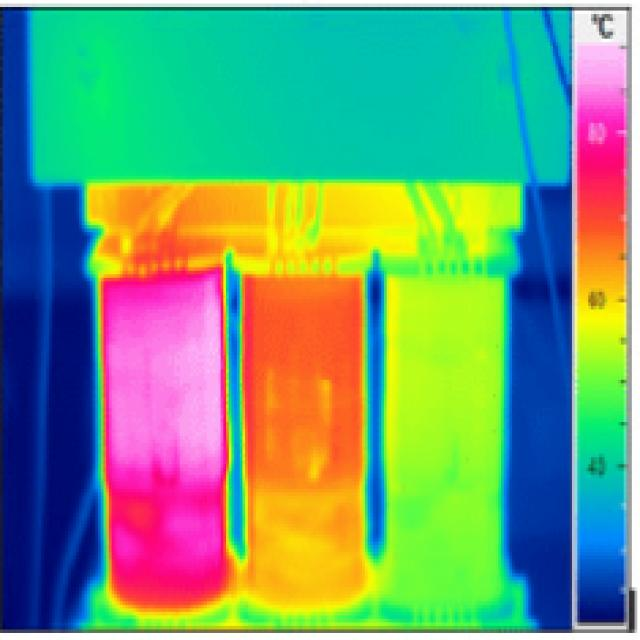Transformer: (22, 11, 566, 622)
